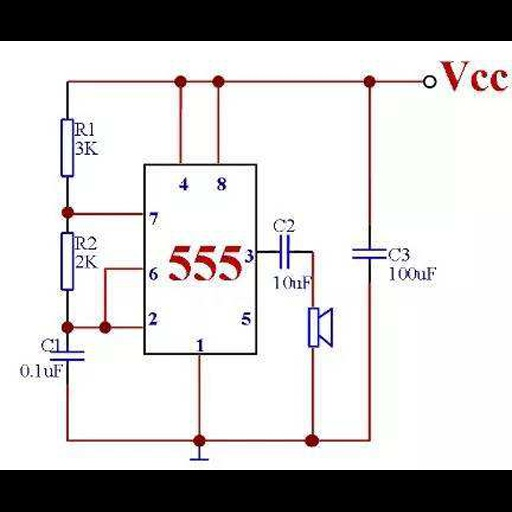capacitor: (274, 234, 297, 272), (349, 244, 389, 264), (49, 349, 87, 365)
firstresistance: (55, 228, 75, 298), (56, 116, 75, 182)
loudspeaker: (304, 303, 337, 353)
